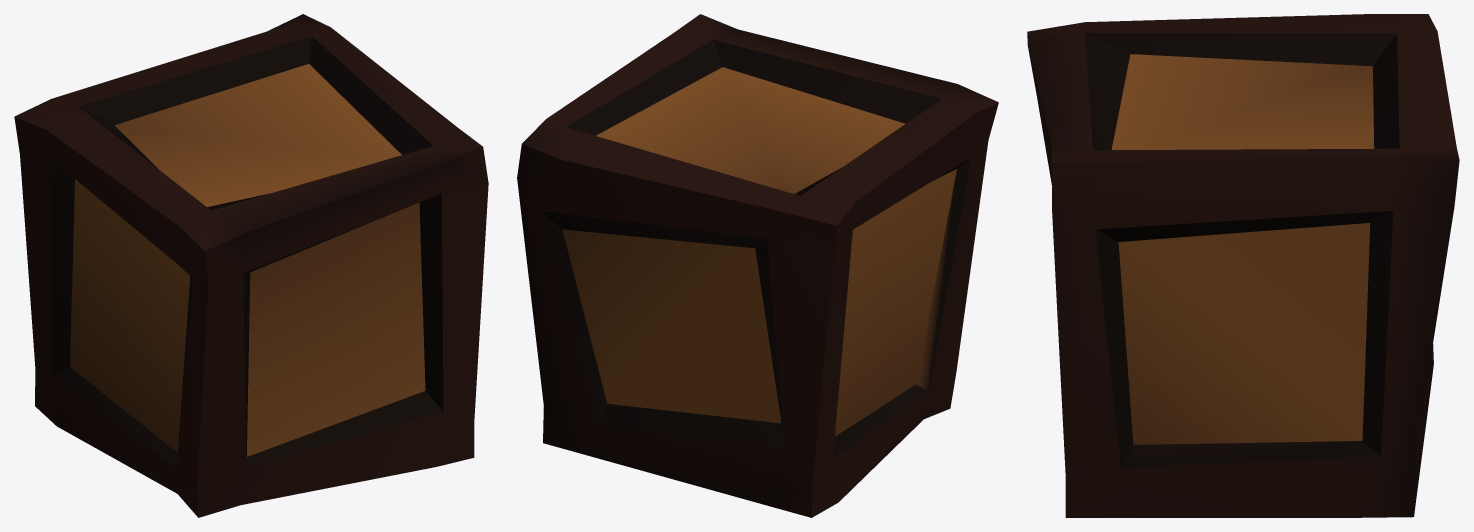
Rendered from c_box_cube_wooden_aa.fbx.
3 renders of one model, left to right at view 1: azimuth 30°, elevation 25°; view 2: azimuth 150°, elevation 25°; view 3: azimuth 270°, elevation 25°, orthographic. The views are drawn at different scales.
Visible parts, largest first — view 1: c_box_cube_wooden_aa; view 2: c_box_cube_wooden_aa; view 3: c_box_cube_wooden_aa.
Part boxes in pixels (x1=…): c_box_cube_wooden_aa: x1=14, y1=14, x2=488, y2=517; c_box_cube_wooden_aa: x1=517, y1=14, x2=998, y2=517; c_box_cube_wooden_aa: x1=1027, y1=14, x2=1459, y2=517.
Bounding box in the file's own units: 1.07 × 1.06 × 1.13.
